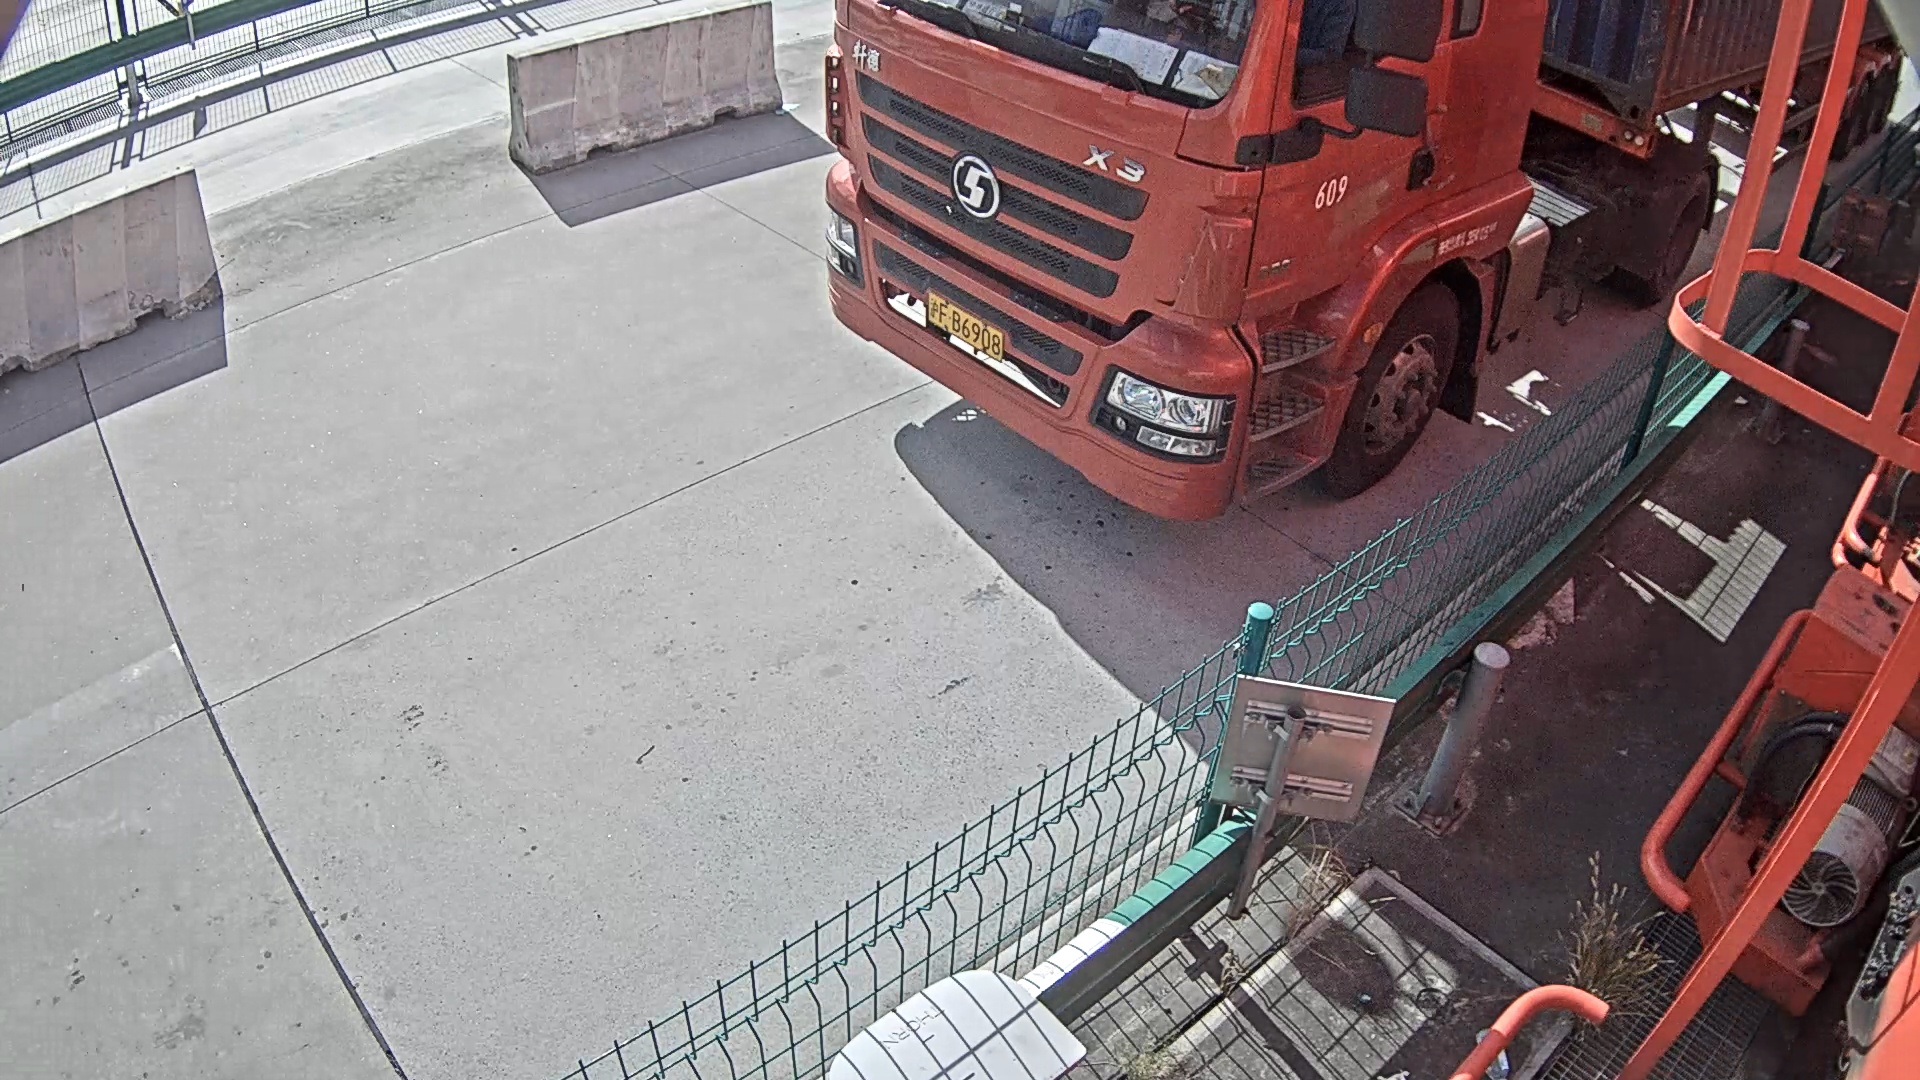head: (829, 1, 1568, 498)
plate: (923, 282, 1008, 366)
